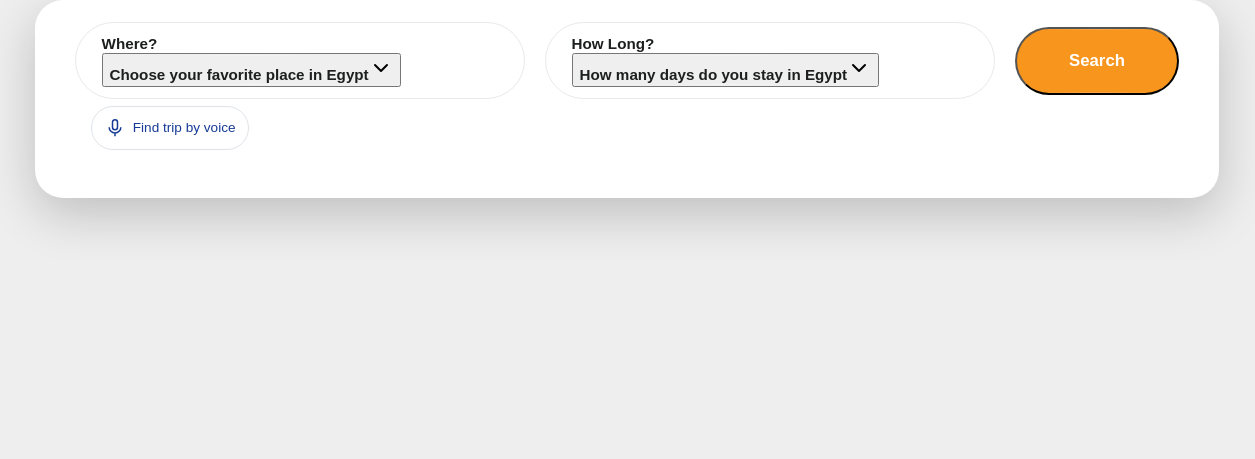
Test: Smart Voice integrates with the existing Find Trip › a repeated transcript in a new session reapplies reviewed category
What coordinates should you click on to do the following:
click the button "Find trip by voice"
I would click on:
 (170, 128)
Its box is [91,106,249,150].
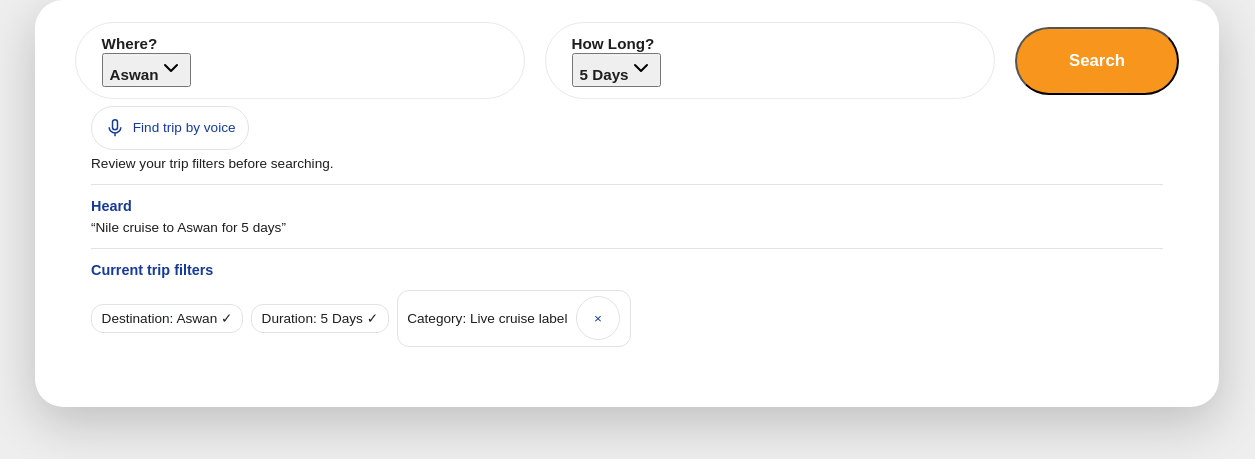
expect the element "Heard" is shown: met, box [91,184,1163,235]
expect the text "Review your trip filters before searching." is shown: met, box [91,156,334,171]
What coordinates should you click on to do the following:
click the button named "Remove category"
I would click on:
 (598, 318)
Its box is [576,296,620,340].
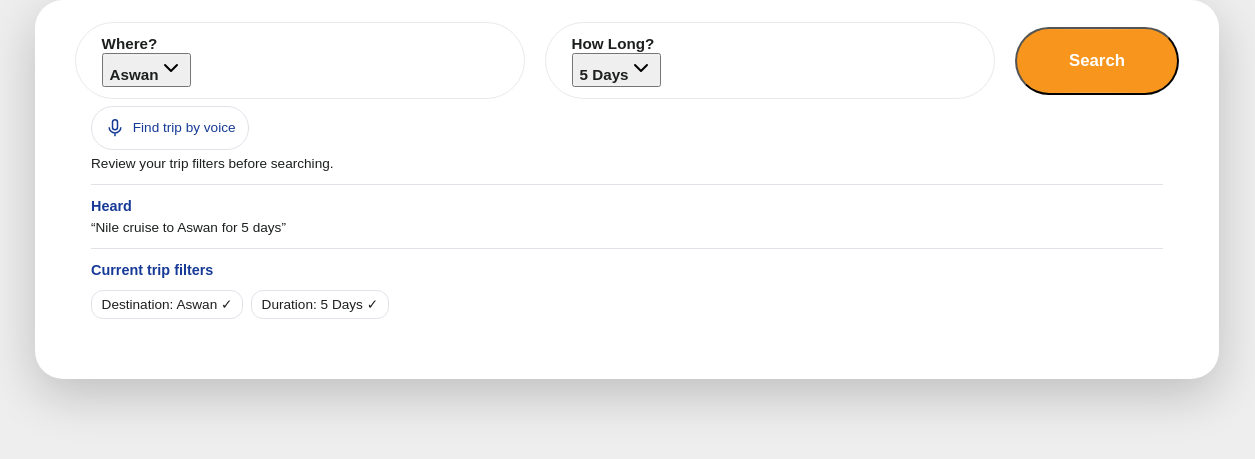
What coordinates should you click on to do the following:
click the button "Find trip by voice"
I would click on:
 (170, 128)
Its box is [91,106,249,150].
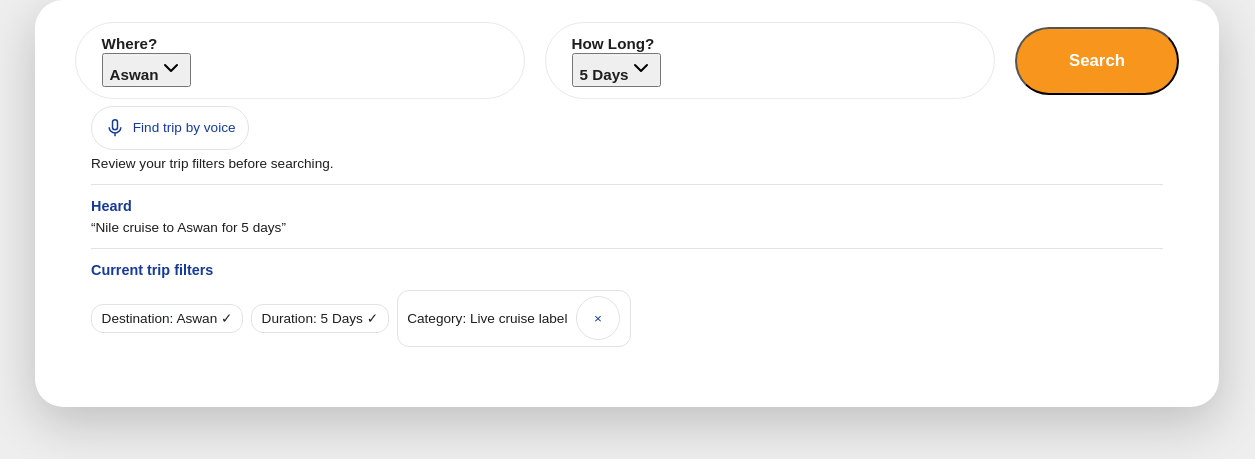
expect the element "Heard" is shown: met, box [91,184,1163,235]
expect the text "Review your trip filters before searching." is shown: met, box [91,156,334,171]
expect the element "Current trip filters" shows "Category: Live cruise label": met, box [91,248,1163,352]
